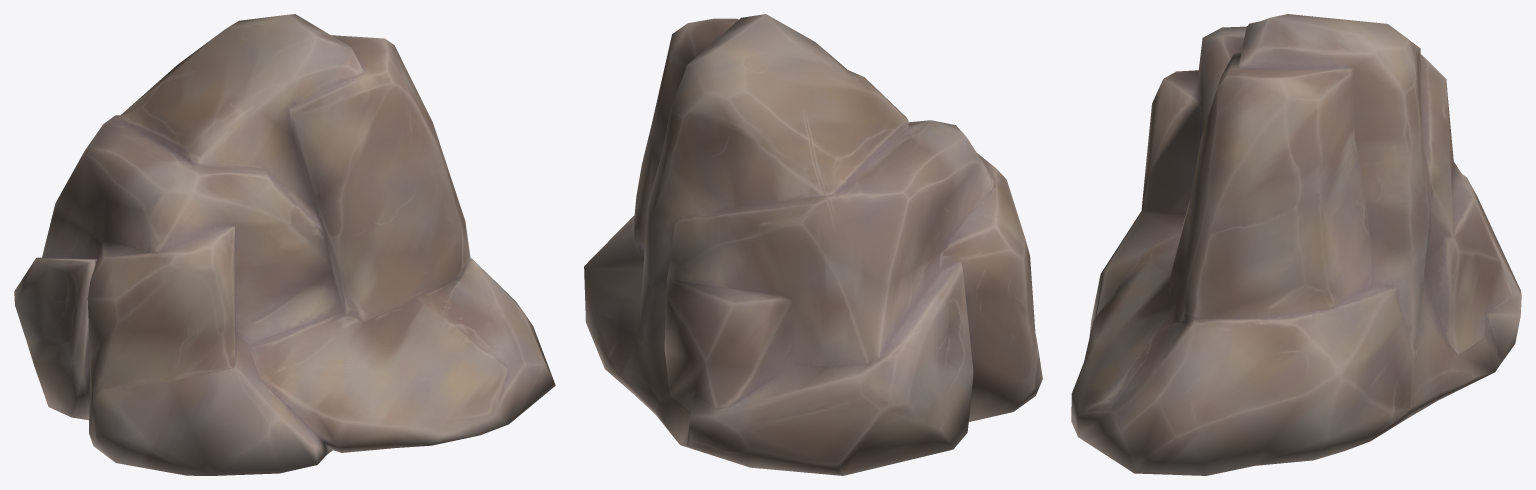
The model's file is medium_stone.gltf.
3 renders of one model, left to right at view 1: azimuth 30°, elevation 25°; view 2: azimuth 150°, elevation 25°; view 3: azimuth 270°, elevation 25°, orthographic. The views are drawn at different scales.
Visible parts, largest first — view 1: Medium stone; view 2: Medium stone; view 3: Medium stone.
Boxes of the visible parts, x1,y1,x2,y2 form: Medium stone: (14, 14, 555, 475); Medium stone: (584, 14, 1042, 475); Medium stone: (1071, 14, 1521, 475).
Size of the model in its own units: 1.29 by 1 by 1.11.
Materials: 1 (1 with a texture image).
